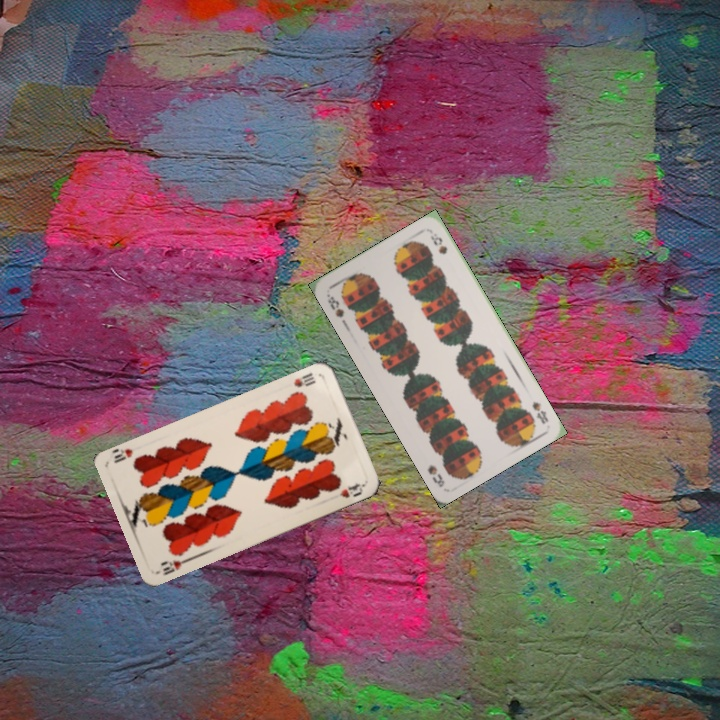H10: (157, 554, 193, 578), (290, 369, 318, 390)
S8: (323, 290, 347, 320), (528, 397, 551, 427)
